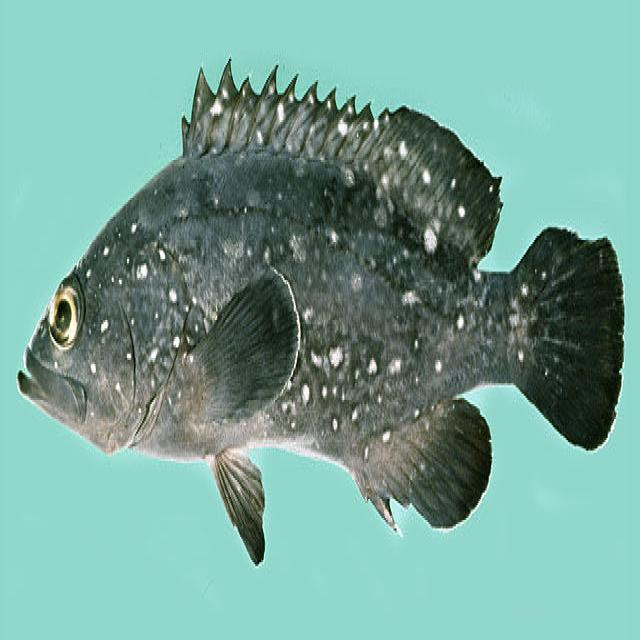ikan: (16, 55, 625, 566)
